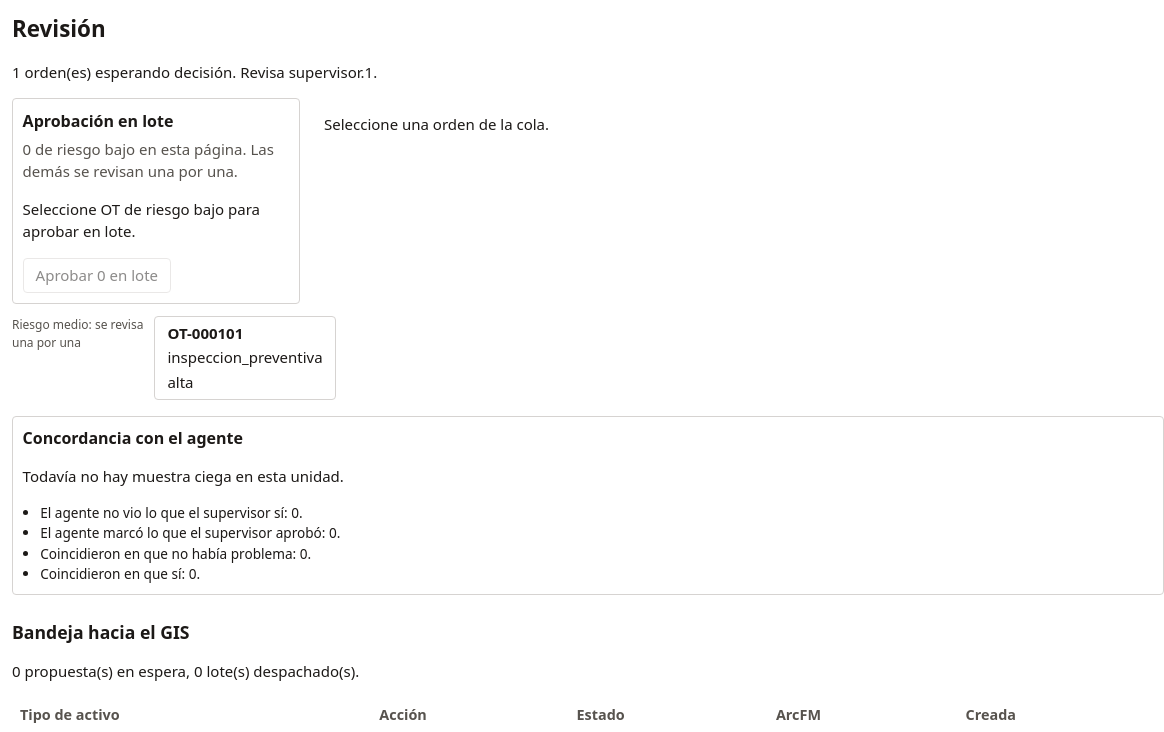
Scenario: la cola › lista lo que espera decisión y abre el detalle
Expected: the text "1 orden(es) esperando decisión. Revisa supervisor.1." is shown, [12,62,377,82]
Click the button "OT-000101 inspeccion_preventiva alta".
click(245, 358)  # box [154,316,336,400]
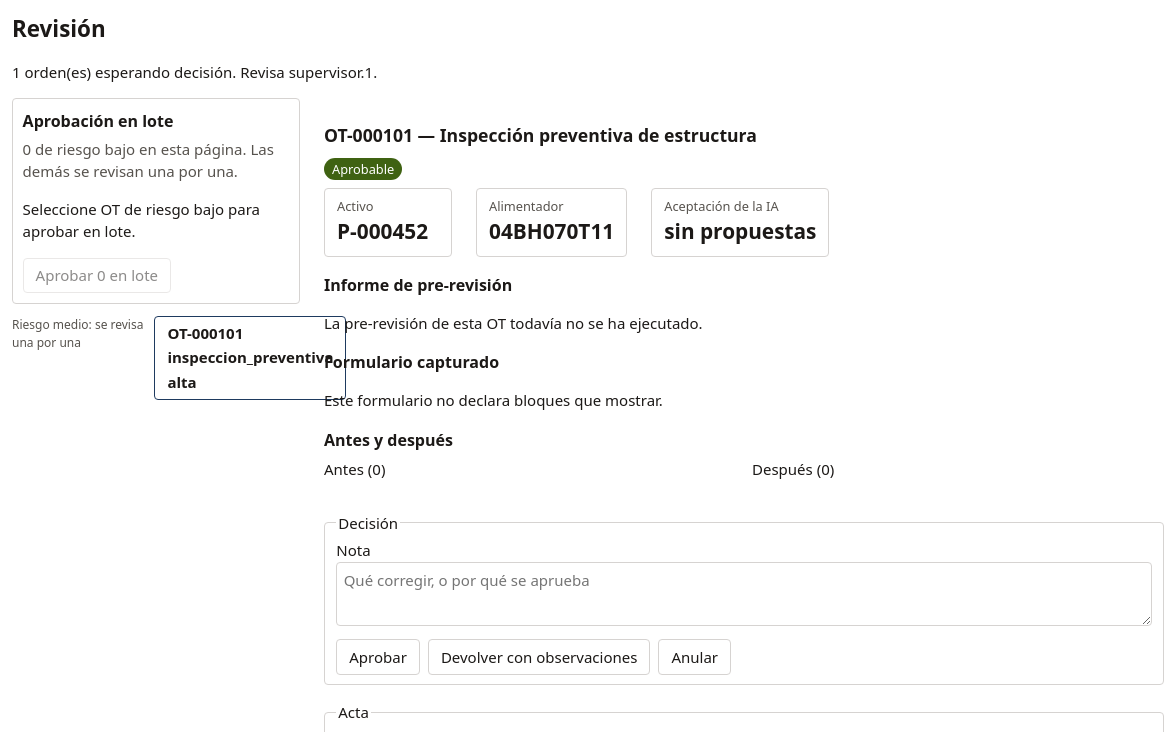
Expected: the heading "OT-000101 — Inspección preventiva de estructura" is shown, [324,123,757,147]
